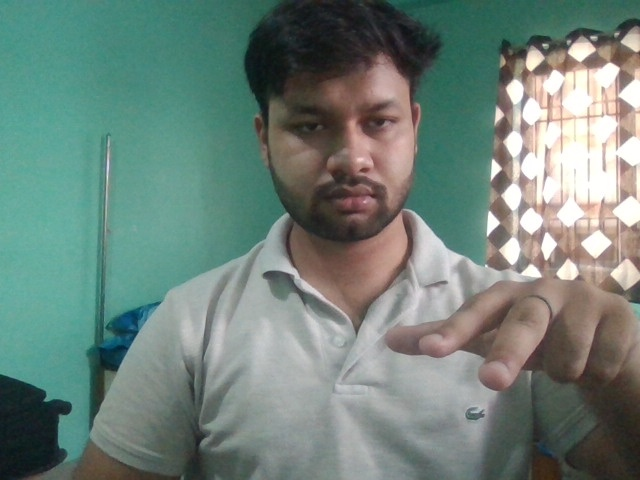No: (383, 275, 640, 412)
